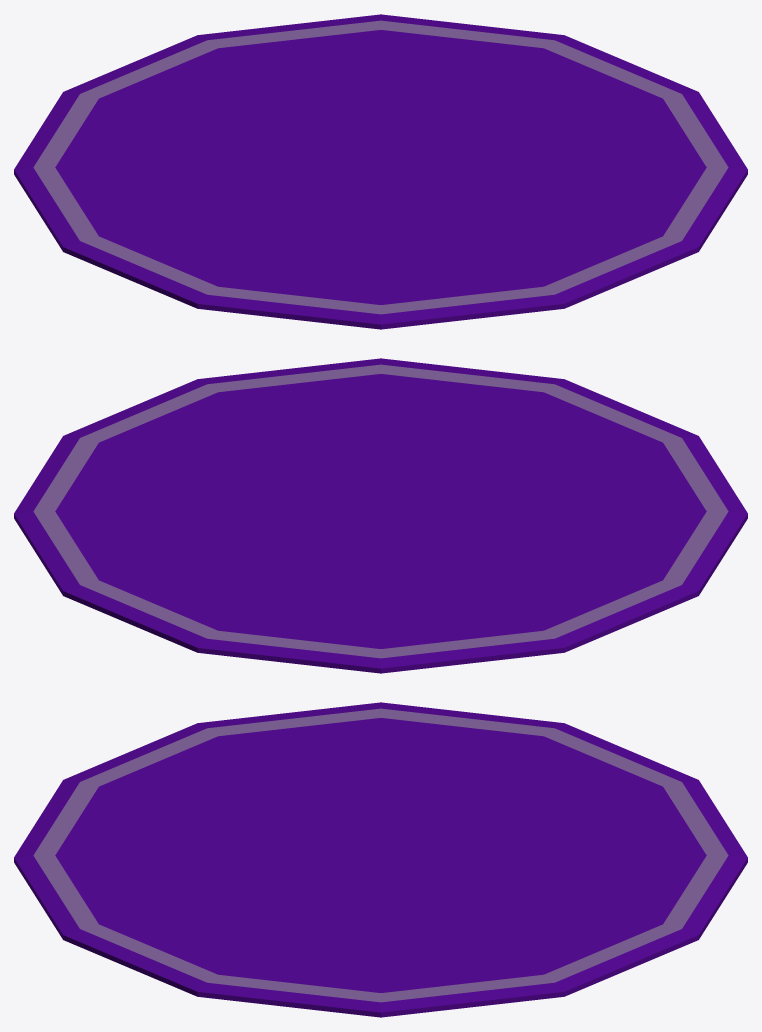
File: tapijt .fbx
The picture shows the model from 3 angles, top to bottom: view 1: azimuth 30°, elevation 25°; view 2: azimuth 150°, elevation 25°; view 3: azimuth 270°, elevation 25°; orthographic projection.
Visible parts, largest first — view 1: Cylinder; view 2: Cylinder; view 3: Cylinder.
Part boxes in pixels (box(x1,y1,x2,y2)): Cylinder: box(14, 14, 747, 329); Cylinder: box(14, 358, 747, 673); Cylinder: box(14, 702, 747, 1017).
Bounding box in the file's own units: 2 × 0.021 × 2.
